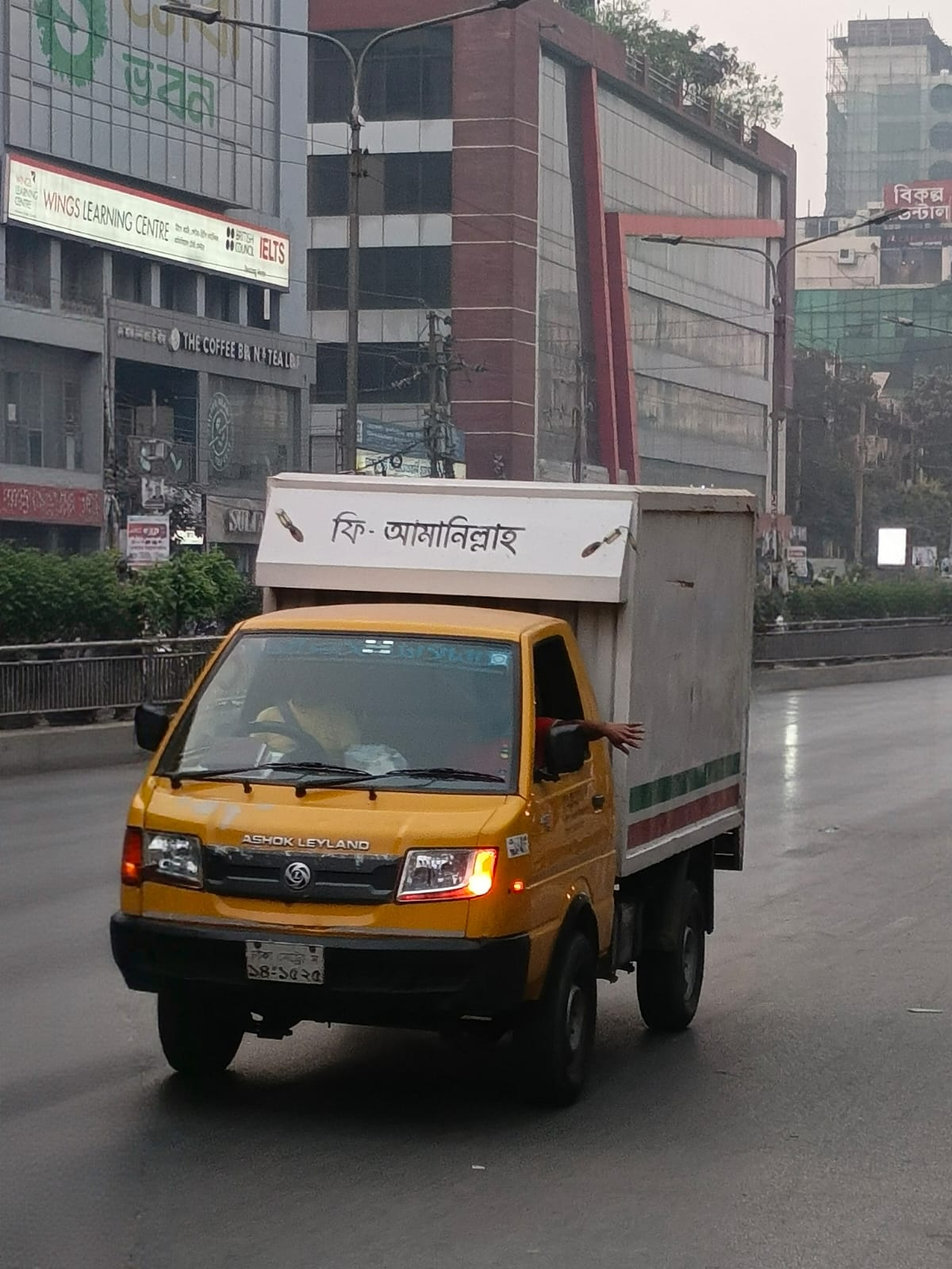Pickup: (130, 402, 850, 1170)
